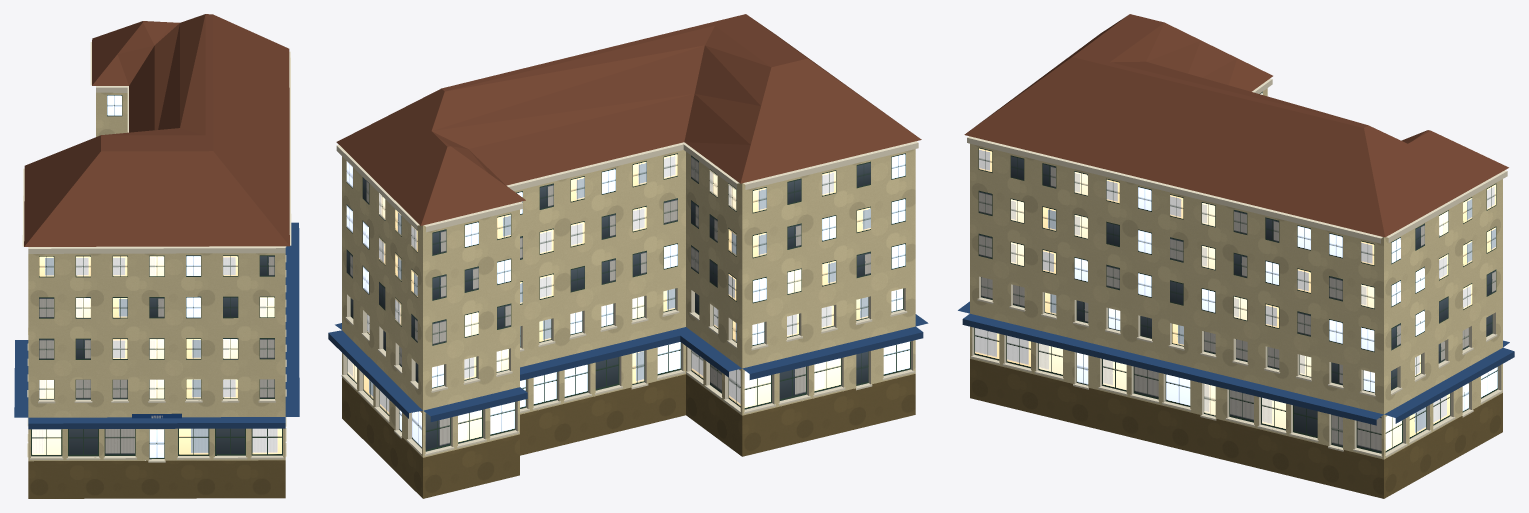
The model's file is langstr_eck.glb.
The picture shows the model from 3 angles, left to right: view 1: azimuth 30°, elevation 25°; view 2: azimuth 150°, elevation 25°; view 3: azimuth 270°, elevation 25°; orthographic projection. The views are drawn at different scales.
Visible parts, largest first — view 1: langstr_eck; view 2: langstr_eck; view 3: langstr_eck.
Part boxes in pixels (x1=…): langstr_eck: x1=14, y1=14, x2=299, y2=498; langstr_eck: x1=328, y1=14, x2=928, y2=498; langstr_eck: x1=958, y1=14, x2=1514, y2=498.
Size of the model in its own units: 34.32 by 25.13 by 38.53.
Materials: 3 (3 with a texture image).
